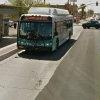Bus: (14, 7, 75, 54)
